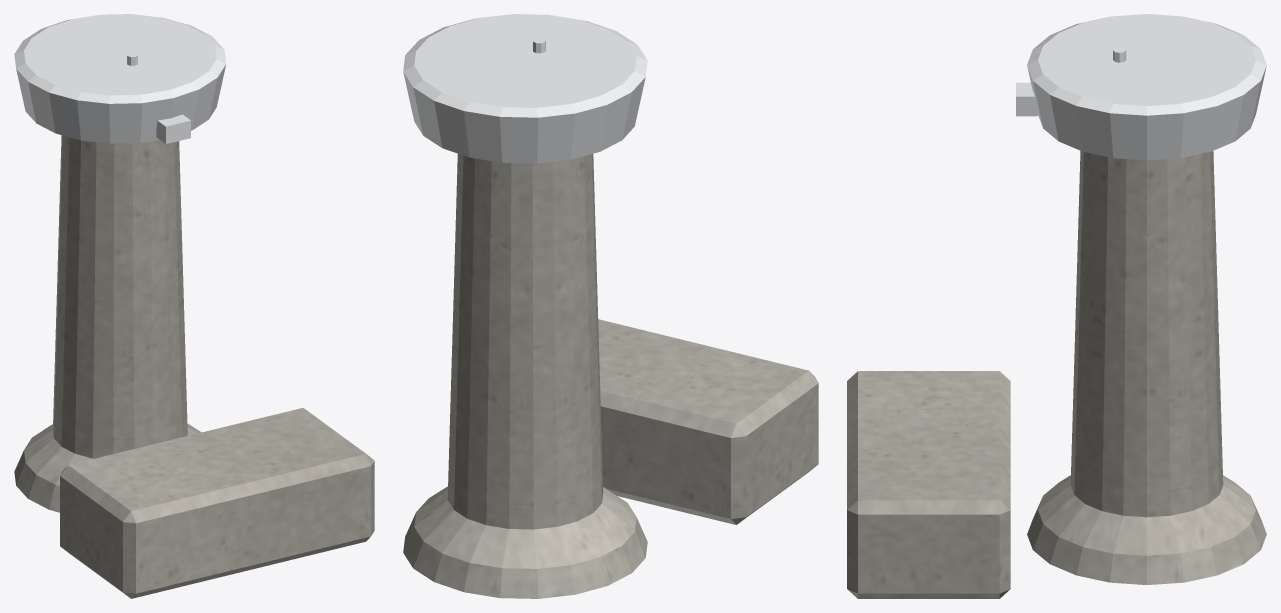
File: fountain.glb
The picture shows the model from 3 angles, left to right: view 1: azimuth 30°, elevation 25°; view 2: azimuth 150°, elevation 25°; view 3: azimuth 270°, elevation 25°; orthographic projection. The views are drawn at different scales.
Parts seen in each view (by area): view 1: fountain_conc_s, fountain_chrome; view 2: fountain_conc_s, fountain_chrome; view 3: fountain_conc_s, fountain_chrome.
Part boxes in pixels (x1,y1,x2,y2): fountain_conc_s: (14,135,374,598); fountain_chrome: (14,14,226,143); fountain_conc_s: (403,154,818,598); fountain_chrome: (403,14,647,163); fountain_conc_s: (847,151,1266,598); fountain_chrome: (1016,14,1266,160).
Bounding box in the file's own units: 0.6 × 0.98 × 0.77.
Materials: 2 (1 with a texture image).
